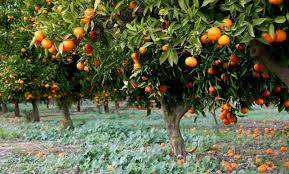orange: (183, 57, 199, 69)
